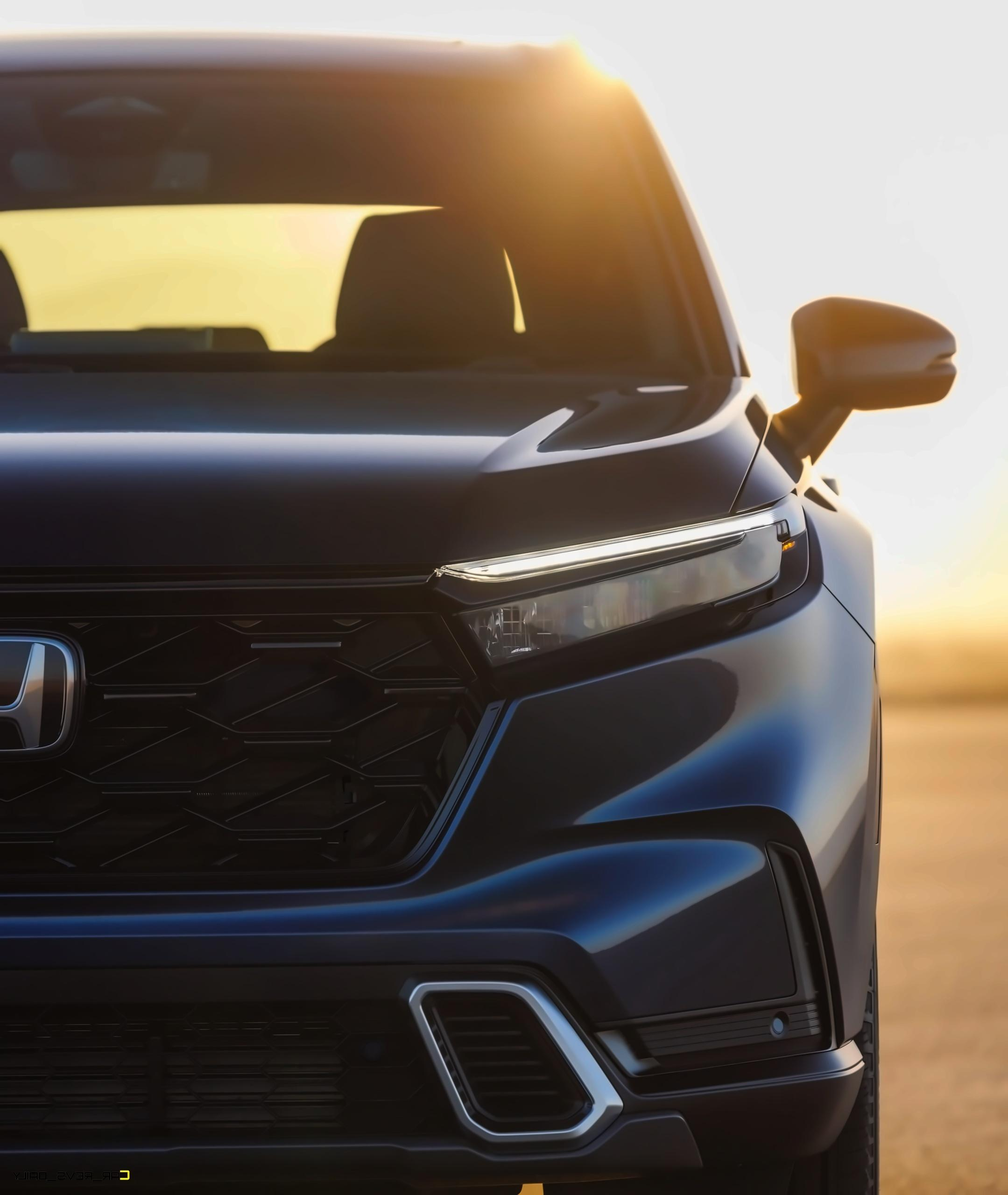Car hood: (0, 354, 782, 584)
Front bumper: (0, 580, 911, 1195)
Headlight - -L-: (406, 481, 838, 695)
Side mirror - -L-: (754, 276, 978, 490)
